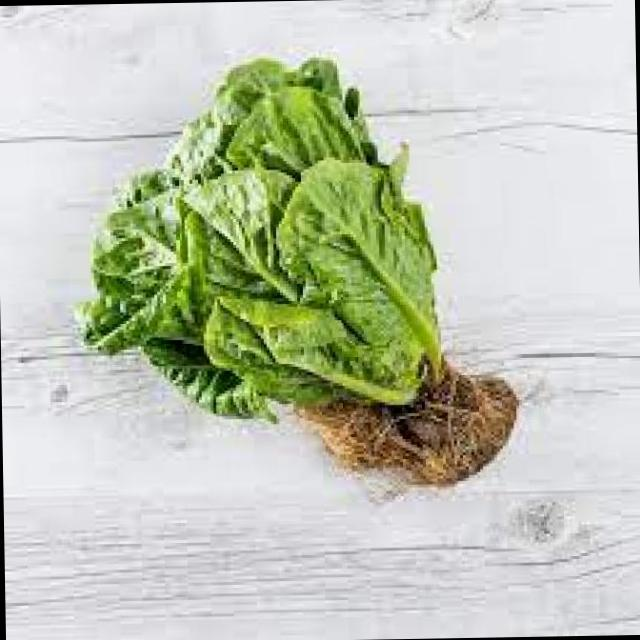Lettuce-Ready-to-Harvest: (84, 57, 442, 412), (378, 339, 383, 343)
